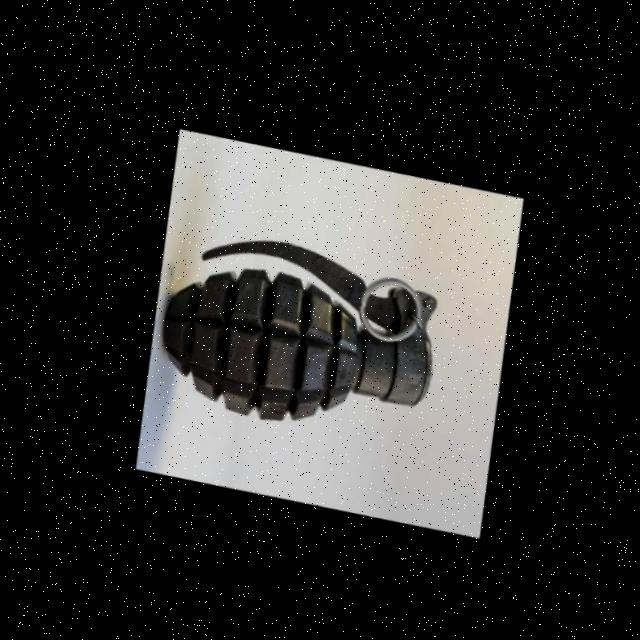grenade: (134, 191, 459, 474)
